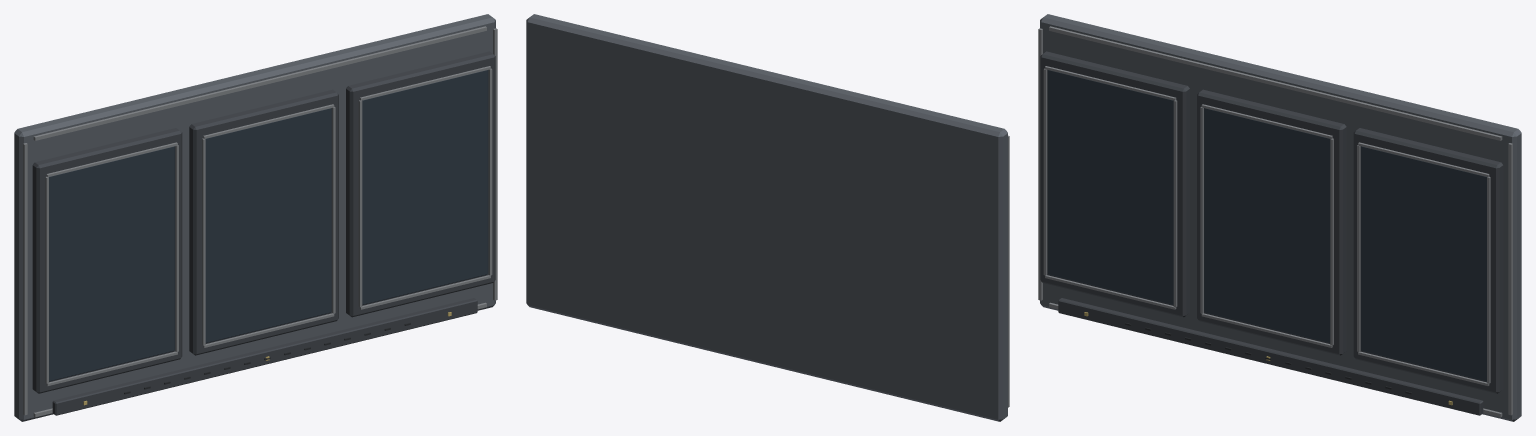
File: 0-20261016-1900-ev052-r09-cfo-financescreen.fbx
The picture shows the model from 3 angles, left to right: view 1: azimuth 30°, elevation 25°; view 2: azimuth 150°, elevation 25°; view 3: azimuth 330°, elevation 25°; orthographic projection.
Visible parts, largest first — view 1: SW_Exec_FinanceScreen; view 2: SW_Exec_FinanceScreen; view 3: SW_Exec_FinanceScreen.
Boxes of the visible parts, x1=… form: SW_Exec_FinanceScreen: x1=14, y1=14, x2=497, y2=421; SW_Exec_FinanceScreen: x1=526, y1=14, x2=1009, y2=421; SW_Exec_FinanceScreen: x1=1038, y1=14, x2=1521, y2=421.
Size of the model in its own units: 262 by 152 by 17.6.
